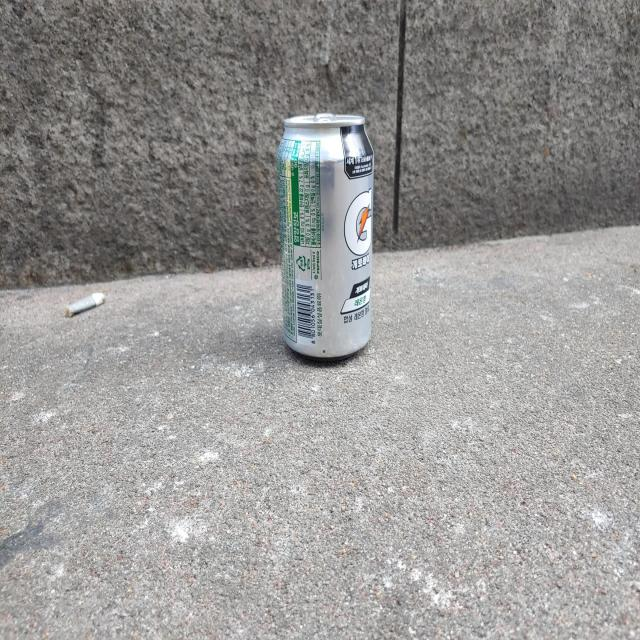can: (277, 112, 374, 358)
